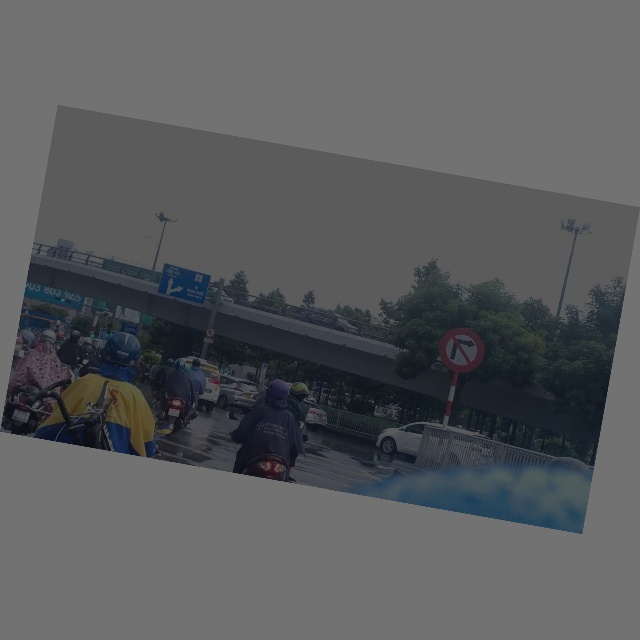P.123b: (435, 324, 489, 378)
P.124b1: (204, 327, 216, 340)
